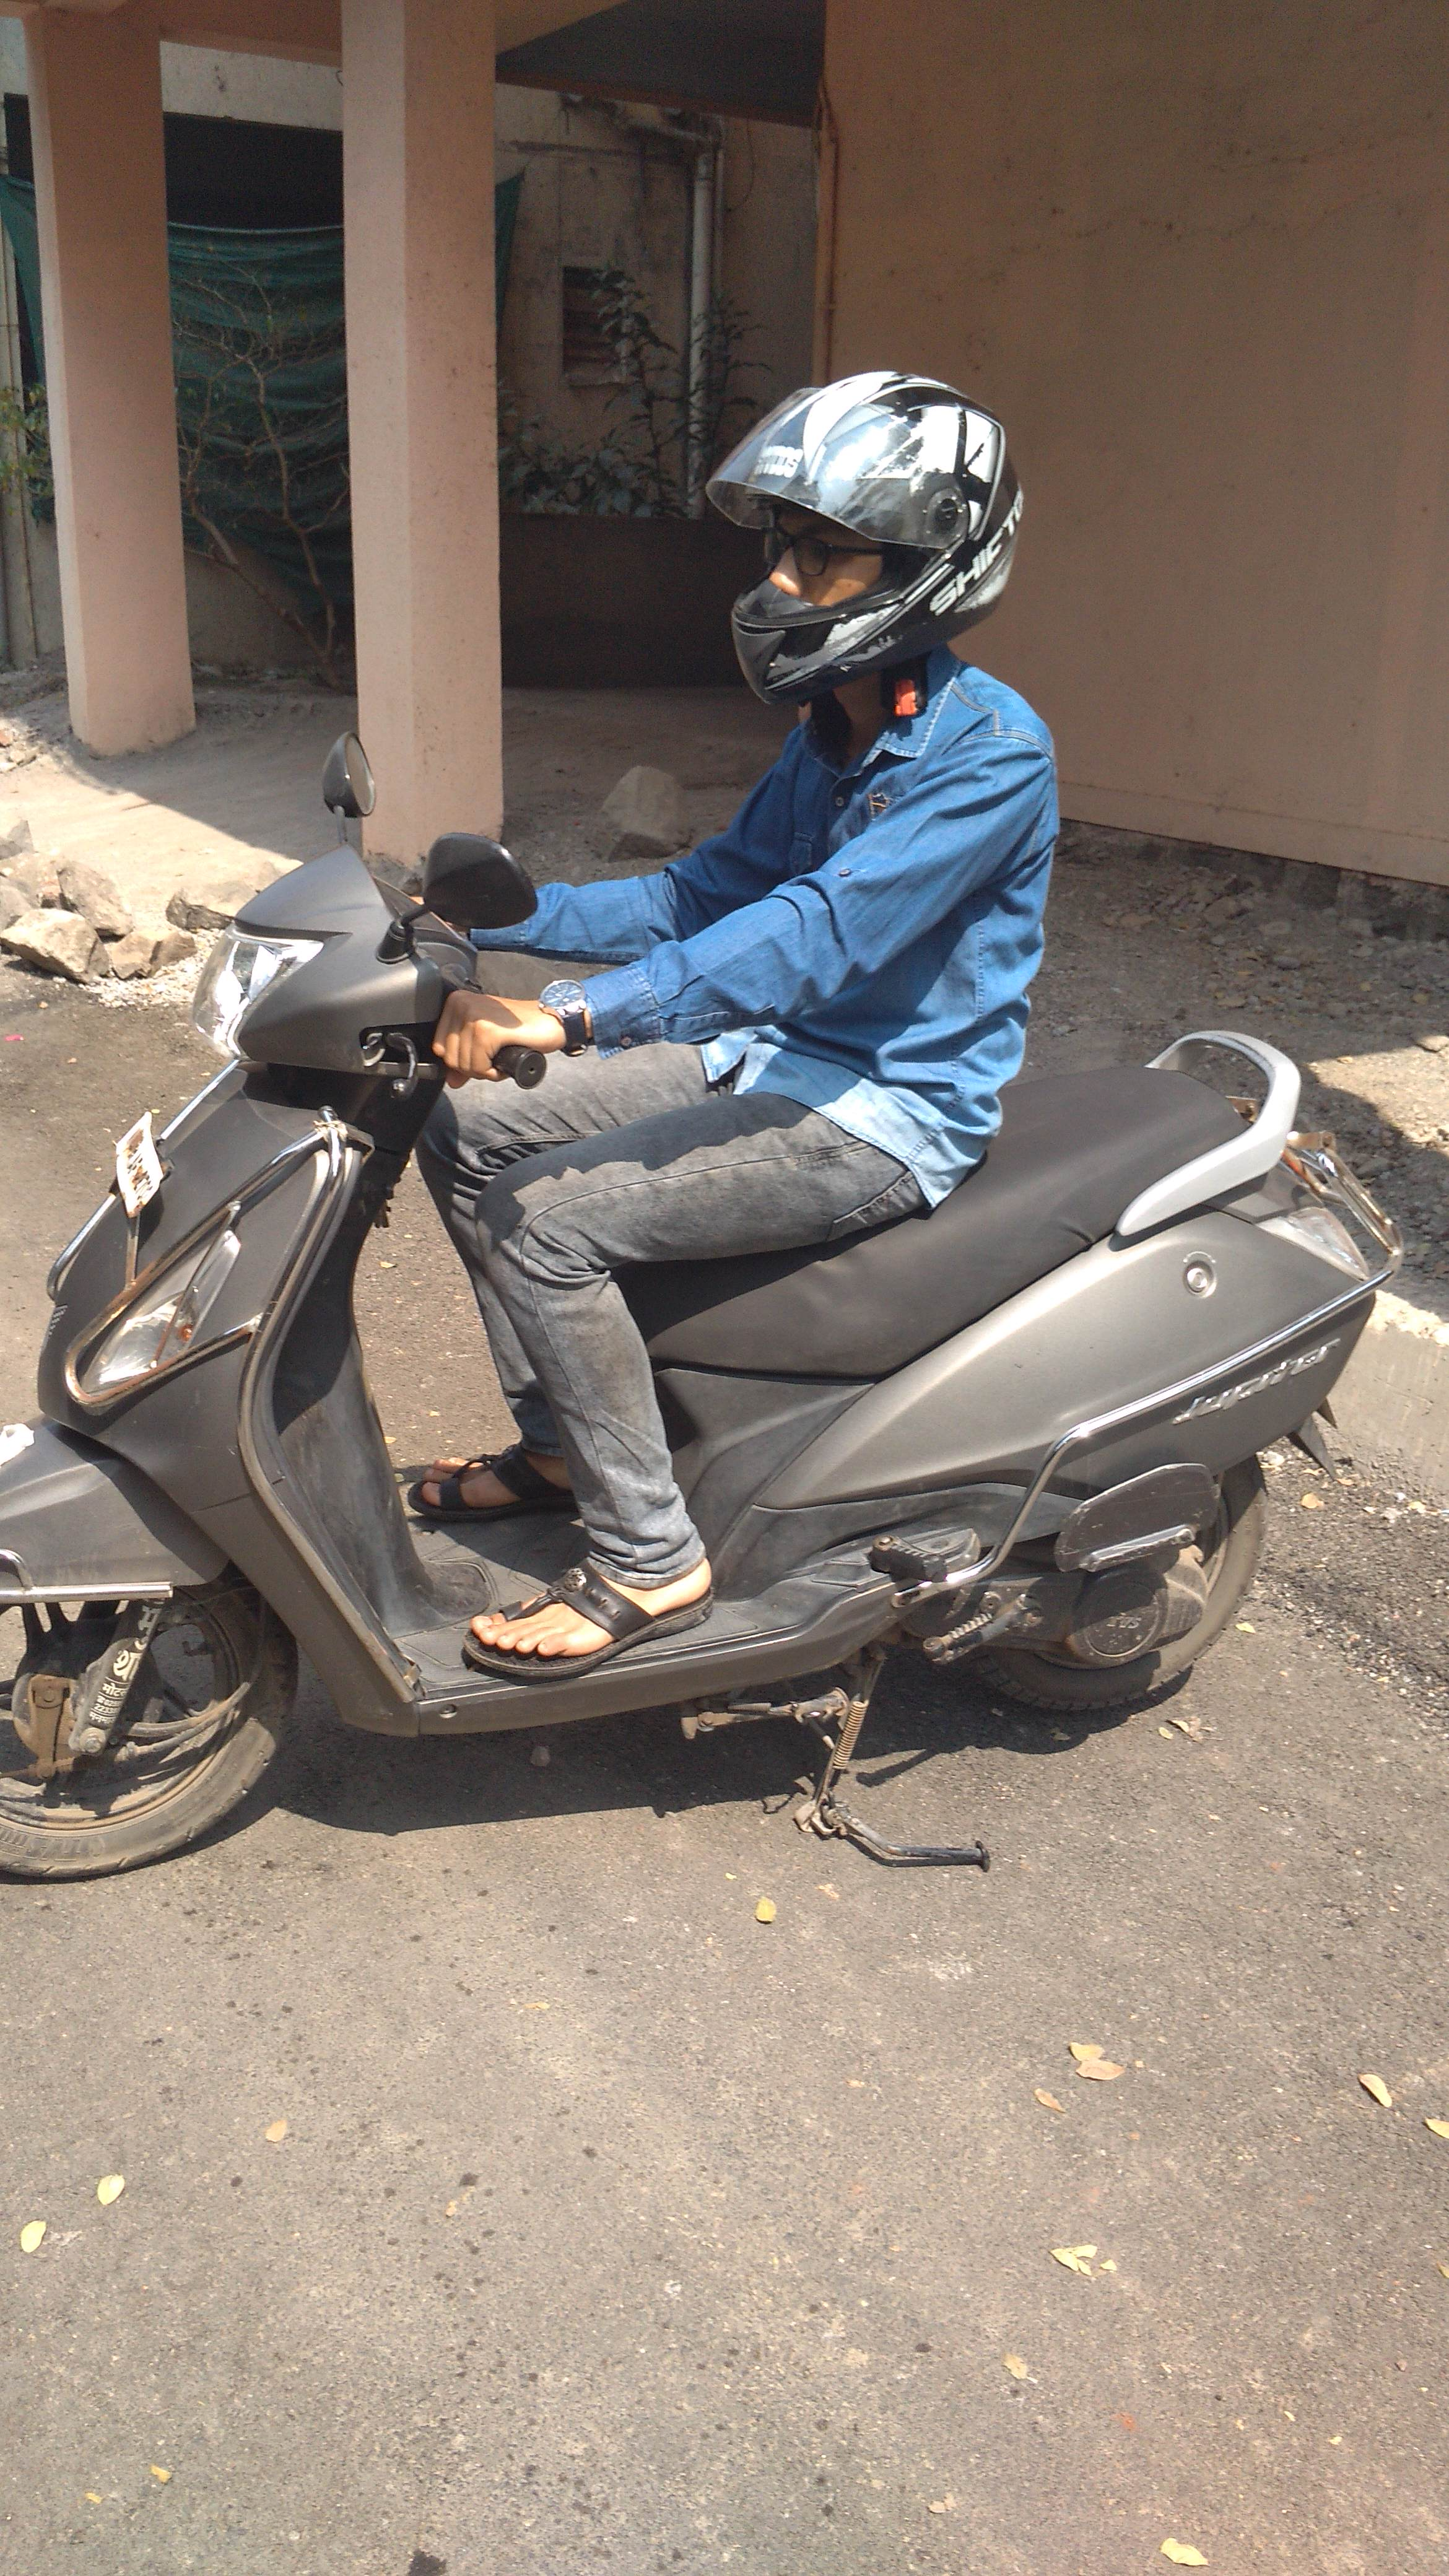helmet: (373, 297, 1072, 1829)
